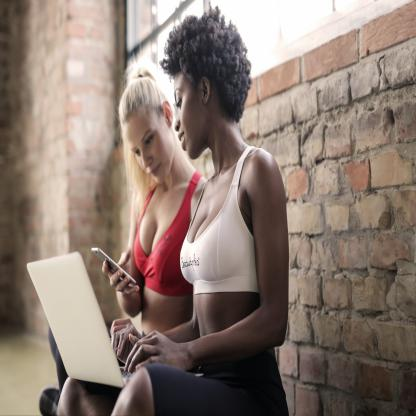Eye: (144, 135, 154, 148), (176, 97, 182, 110), (134, 148, 140, 157)
Mouth: (148, 162, 161, 176), (178, 131, 185, 151)
Nose: (141, 149, 153, 169), (174, 110, 181, 132)
